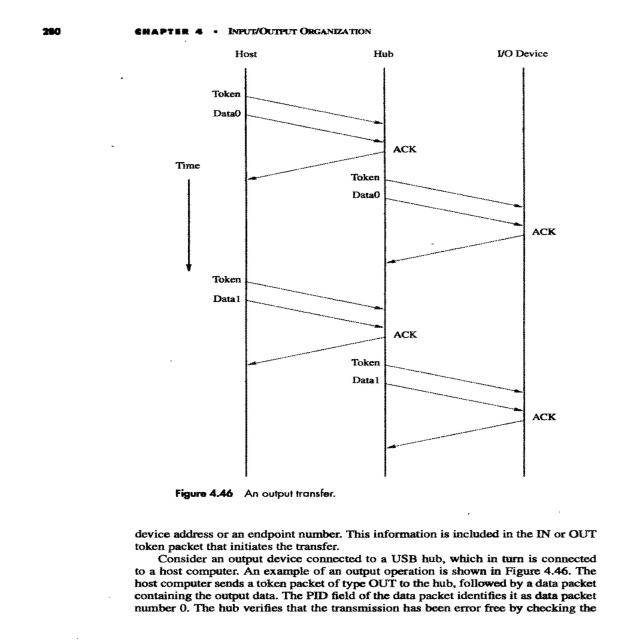diagram: (126, 44, 632, 512)
